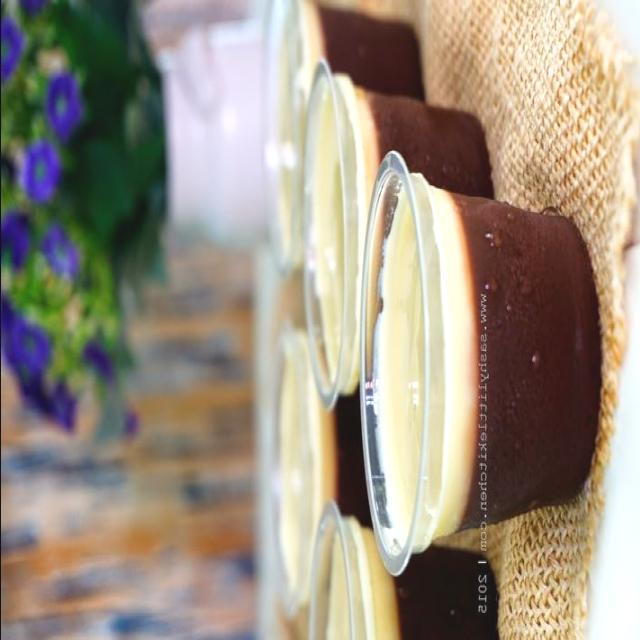puding: (361, 153, 601, 572)
